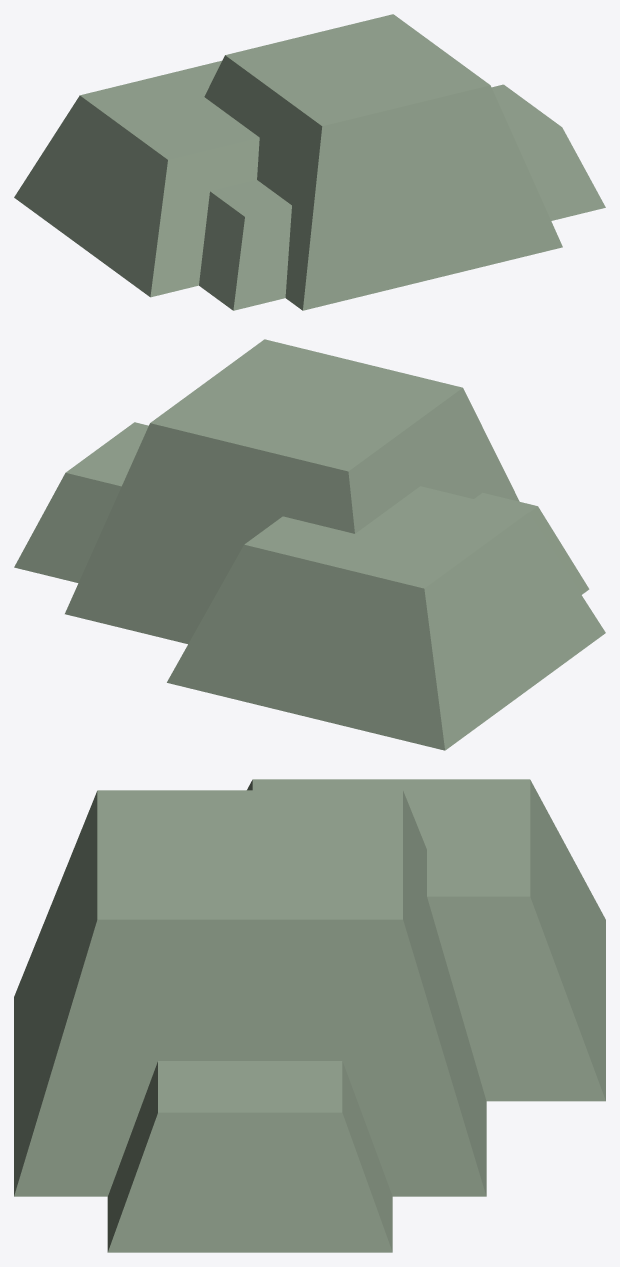
File: rock_grey_01.fbx
3 views of the same model, one above another, from view 1: azimuth 30°, elevation 25°; view 2: azimuth 150°, elevation 25°; view 3: azimuth 270°, elevation 25° (orthographic). The views are drawn at different scales.
Parts seen in each view (by area): view 1: rock_grey_01; view 2: rock_grey_01; view 3: rock_grey_01.
Boxes of the visible parts, x1,y1,x2,y2 form: rock_grey_01: (14,14,605,310); rock_grey_01: (14,339,605,750); rock_grey_01: (14,779,605,1252).
Bounding box in the file's own units: 1.76 × 0.5957 × 1.32.
